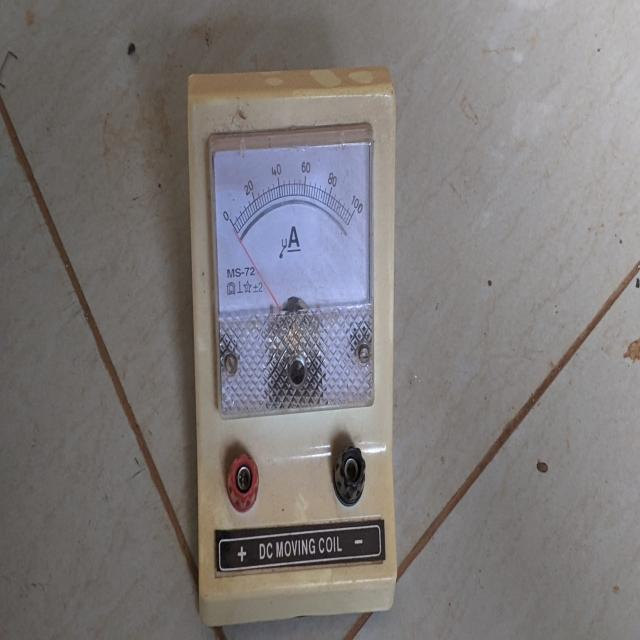Ammeter Analog: (175, 67, 403, 621)
